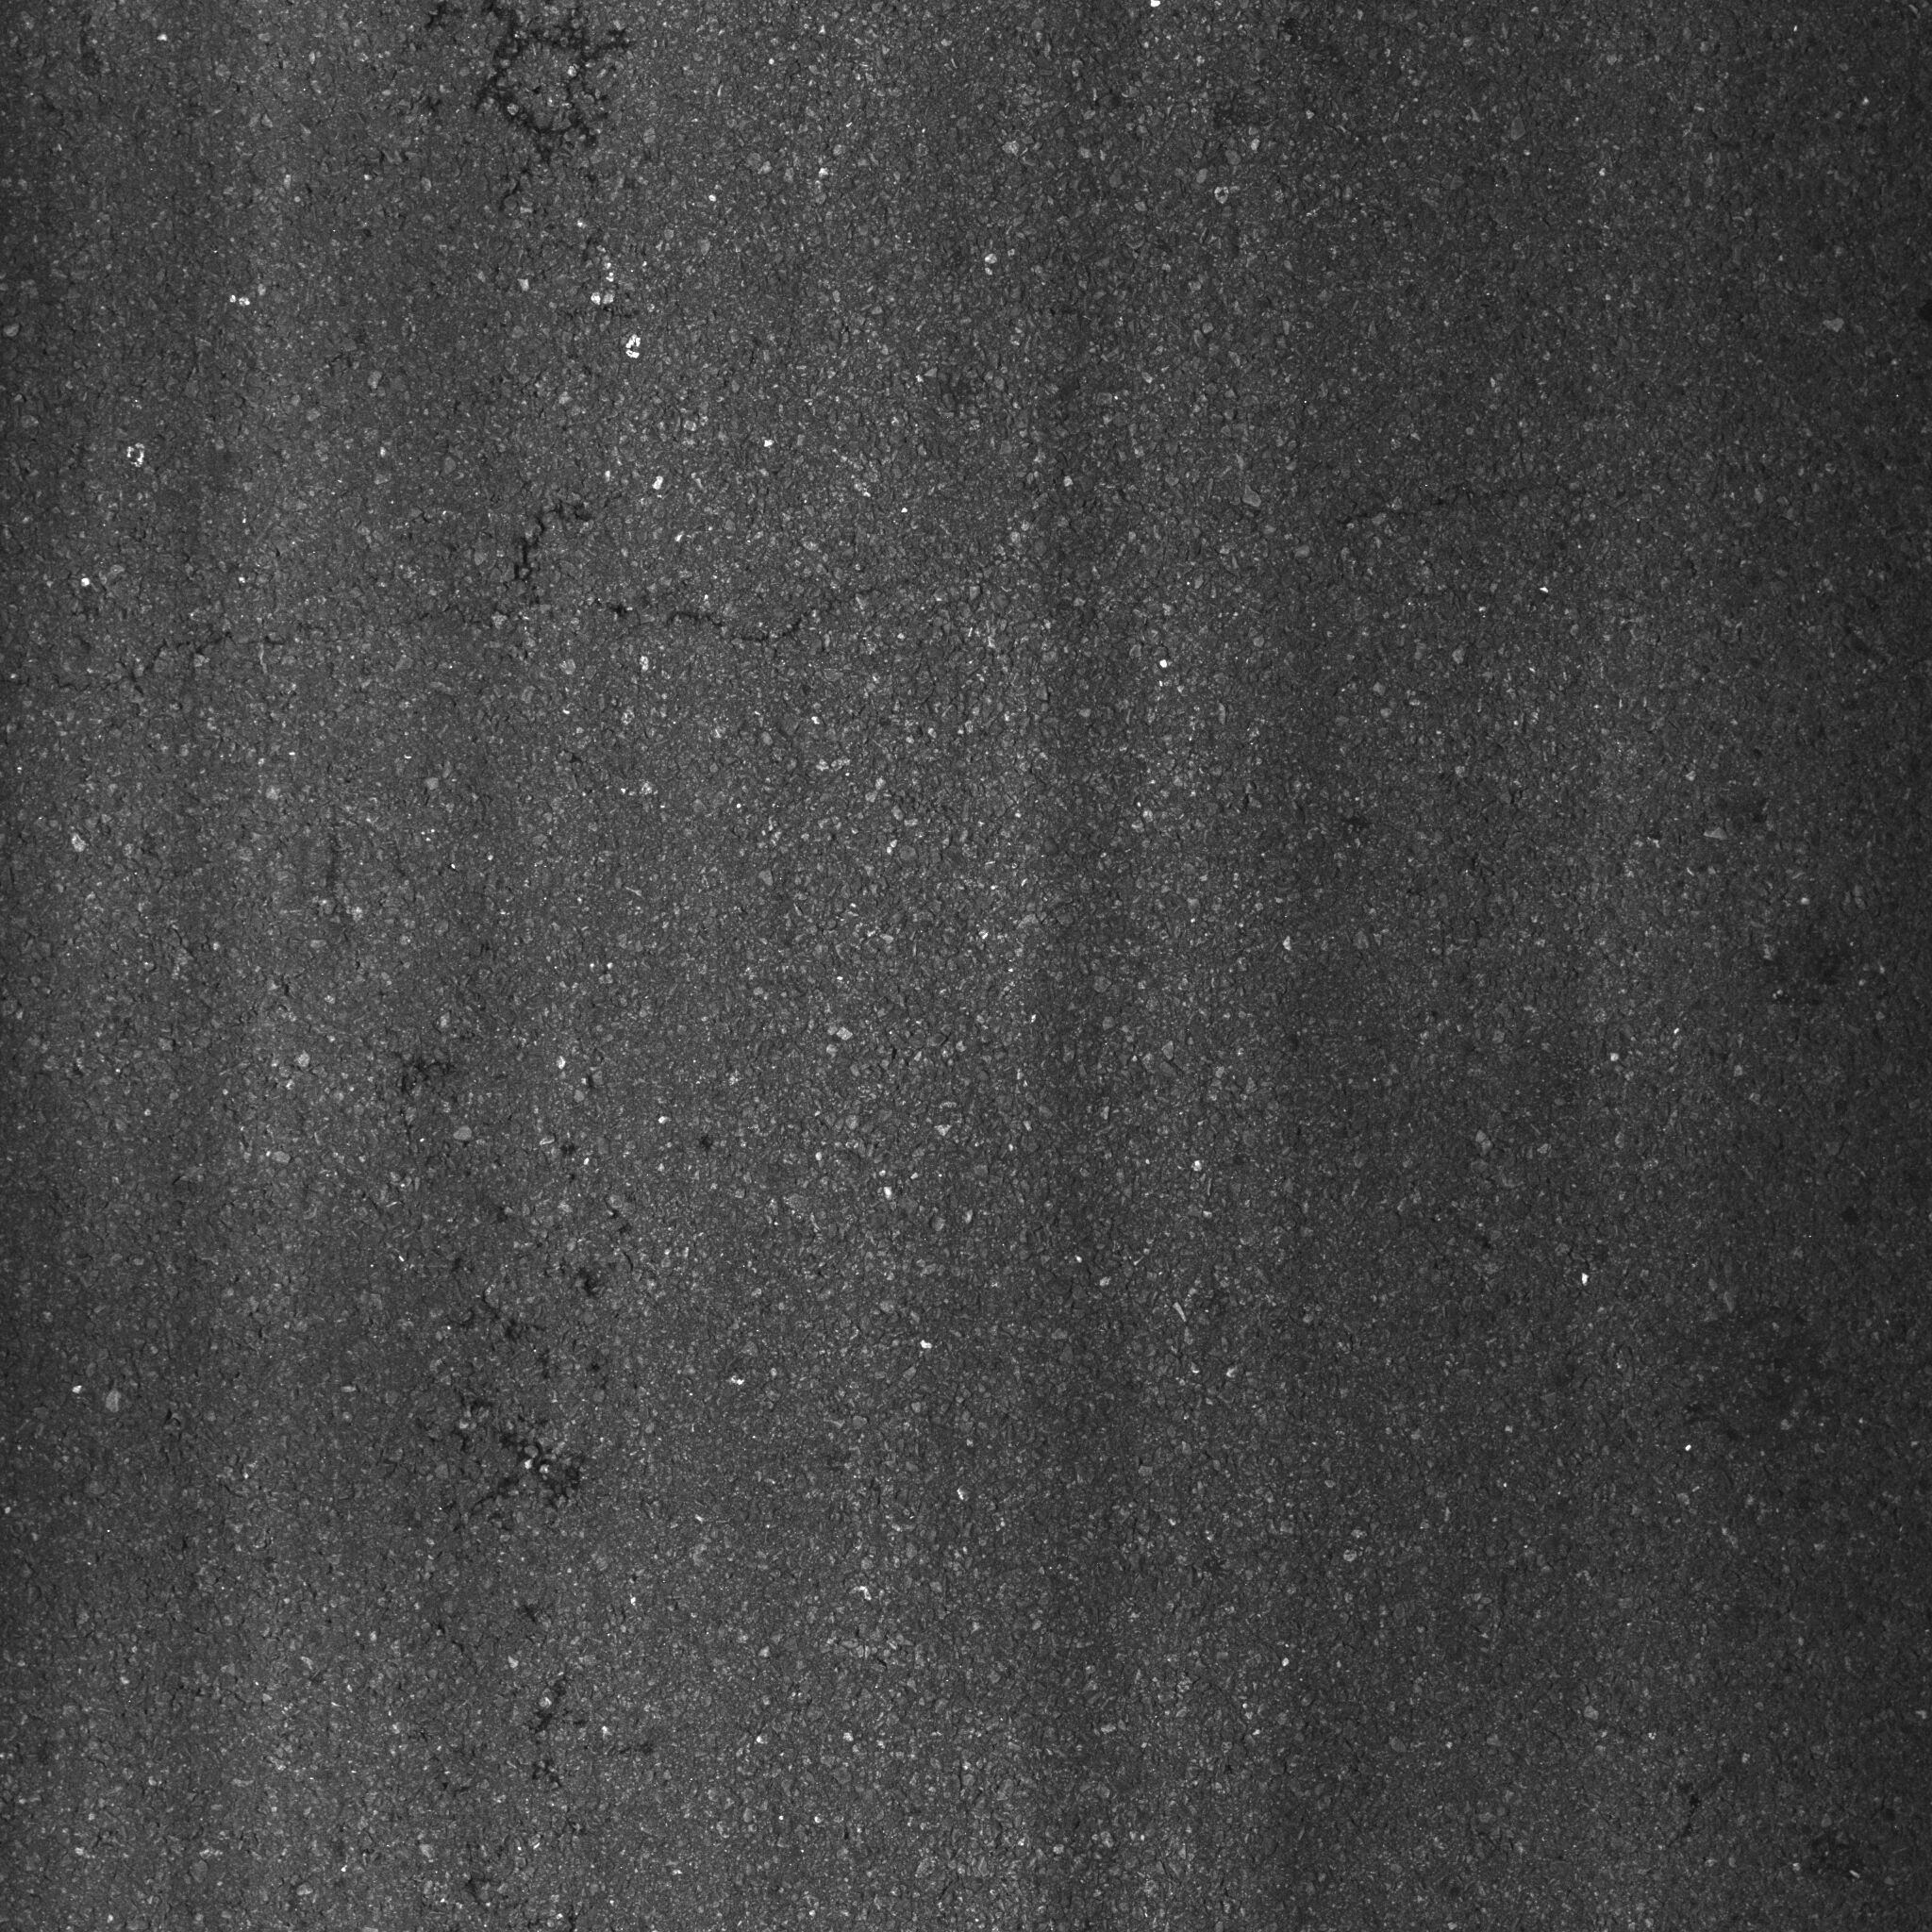alligator: (400, 2, 667, 170)
